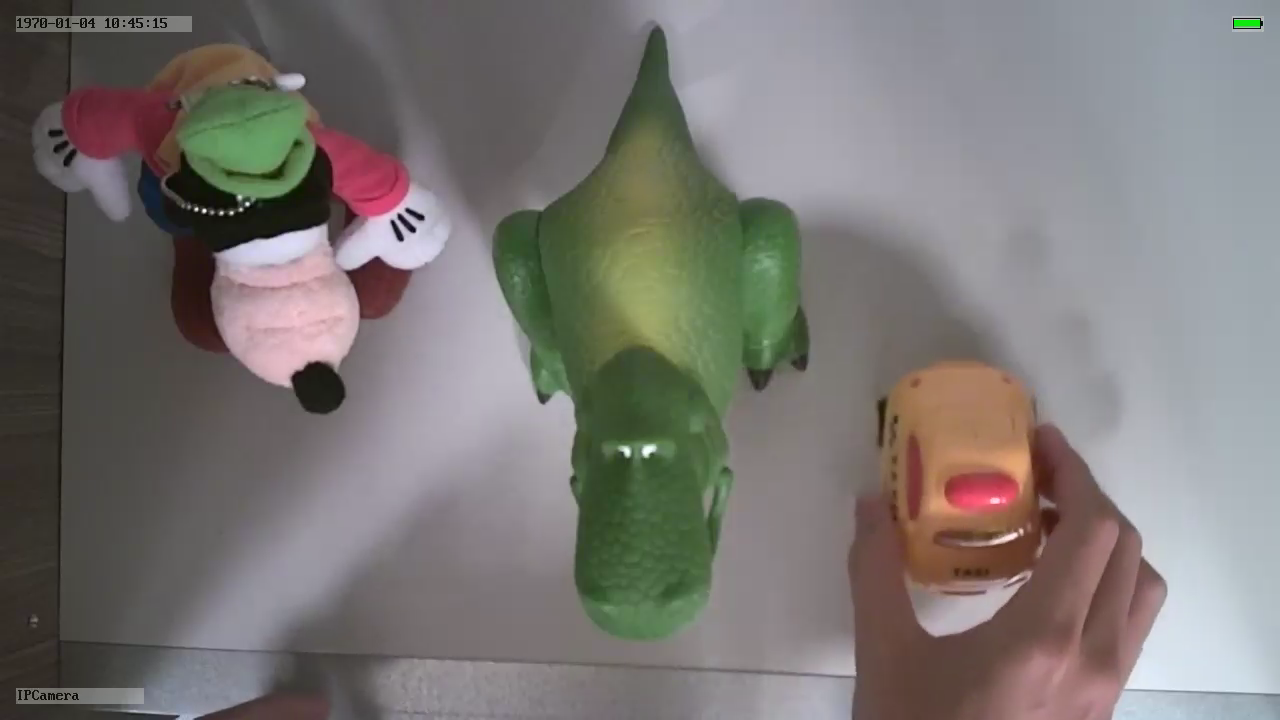goofy: (30, 39, 452, 418)
